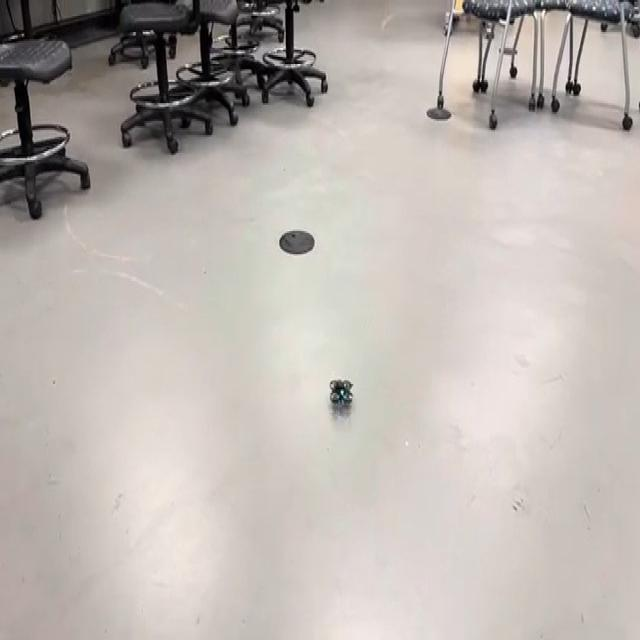drone: (323, 367, 358, 419)
